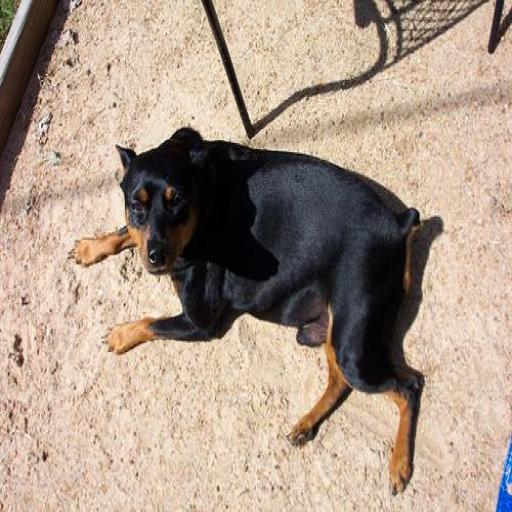dog_face: (106, 134, 218, 284)
